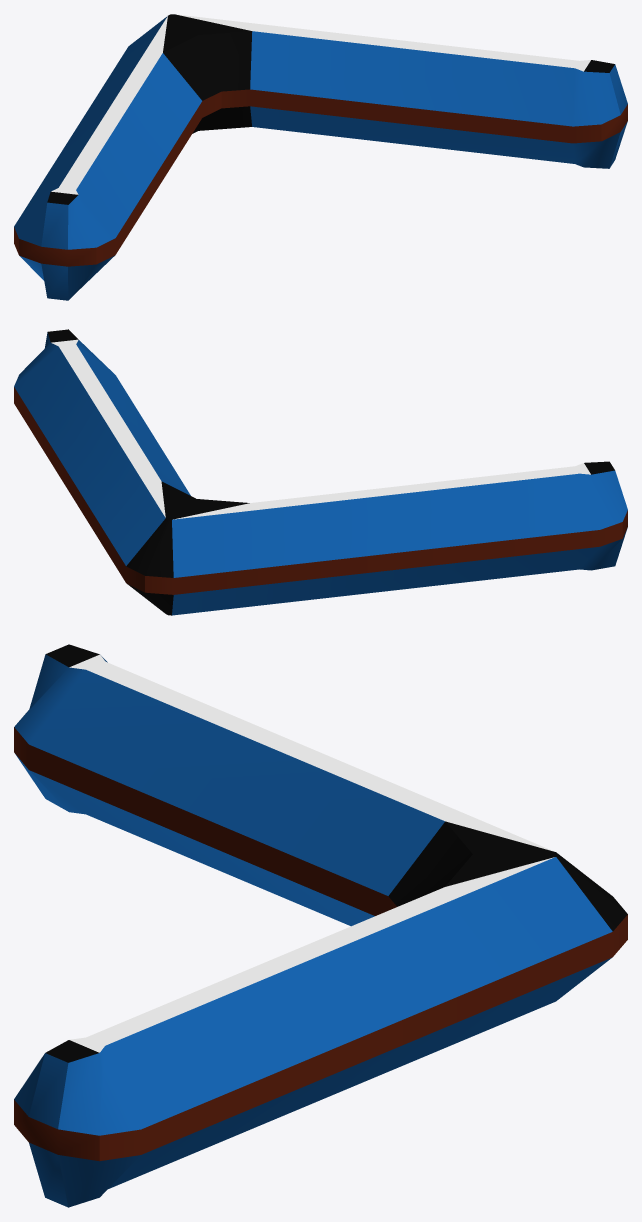
File: Boomerng_Coco.fbx
The picture shows the model from 3 angles, top to bottom: view 1: azimuth 30°, elevation 25°; view 2: azimuth 150°, elevation 25°; view 3: azimuth 270°, elevation 25°; orthographic projection. The views are drawn at different scales.
Visible parts, largest first — view 1: L-Ext001; view 2: L-Ext001; view 3: L-Ext001.
Part boxes in pixels (<box>): L-Ext001: <box>14,14,627,300</box>; L-Ext001: <box>14,329,627,615</box>; L-Ext001: <box>14,644,627,1207</box>.
Bounding box in the file's own units: 37.5 × 5.69 × 21.87.
